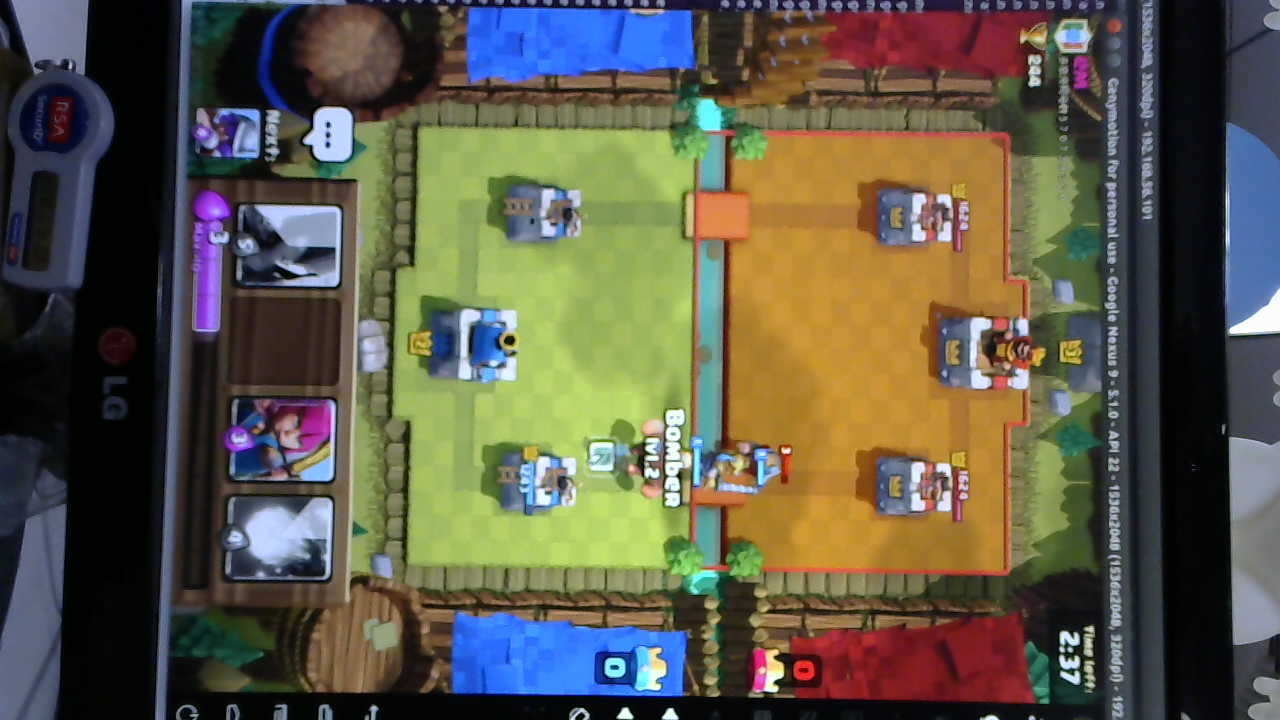arena: (500, 178, 584, 245), (501, 449, 580, 517)
earena: (872, 185, 955, 250), (875, 457, 954, 517)
eking: (935, 312, 1037, 391)
giant: (631, 419, 693, 499)
king: (438, 306, 529, 386)
knight: (749, 435, 785, 496)
prince: (701, 450, 760, 496)
